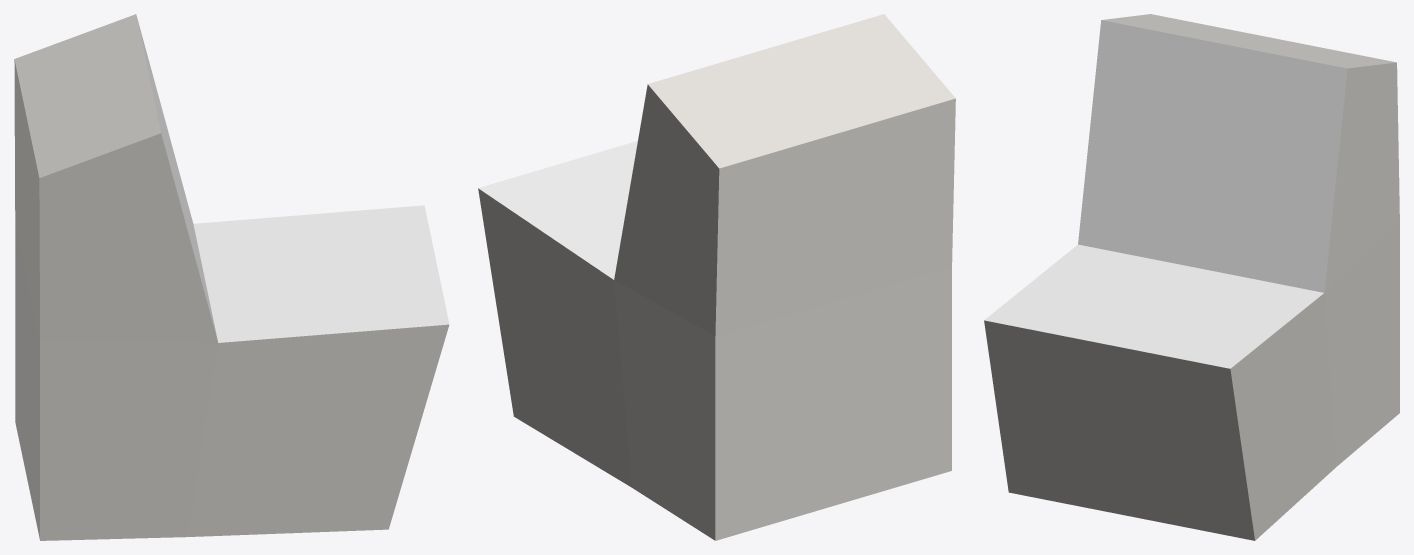
File: WhiteCubeChair.fbx
The picture shows the model from 3 angles, left to right: view 1: azimuth 30°, elevation 25°; view 2: azimuth 150°, elevation 25°; view 3: azimuth 270°, elevation 25°; orthographic projection. The views are drawn at different scales.
Parts seen in each view (by area): view 1: CubeChair.001; view 2: CubeChair.001; view 3: CubeChair.001.
Part boxes in pixels (x1,y1,x2,y2): CubeChair.001: [14, 14, 449, 540]; CubeChair.001: [478, 14, 955, 540]; CubeChair.001: [984, 14, 1399, 540].
Size of the model in its own units: 119 by 108 by 105.
